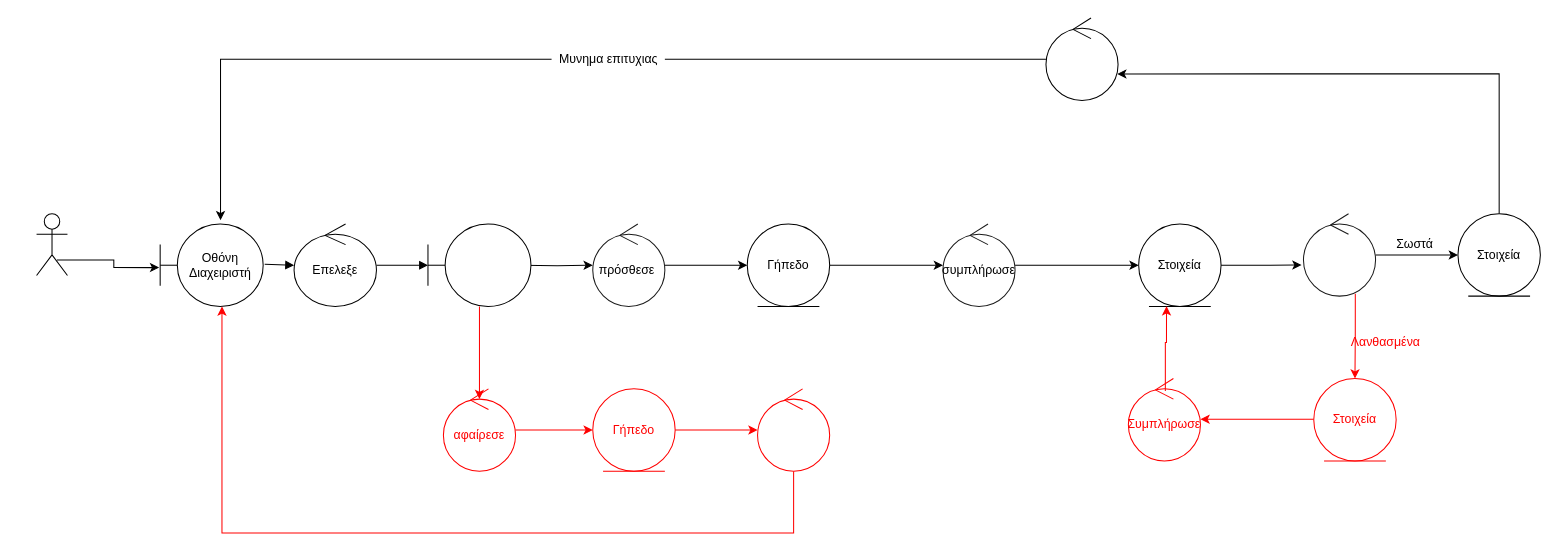
Image size: 1558x559. Some labels were removed from this diagram. Each missing label, with the centre of its shape:
Έλεγξε: (x=1339, y=254)
Διαχειριστής: (x=51, y=244)
Επέστρεψε: (x=793, y=429)
Επεστρεψε: (x=1081, y=58)
Λίστα γηπέδων: (x=479, y=264)
